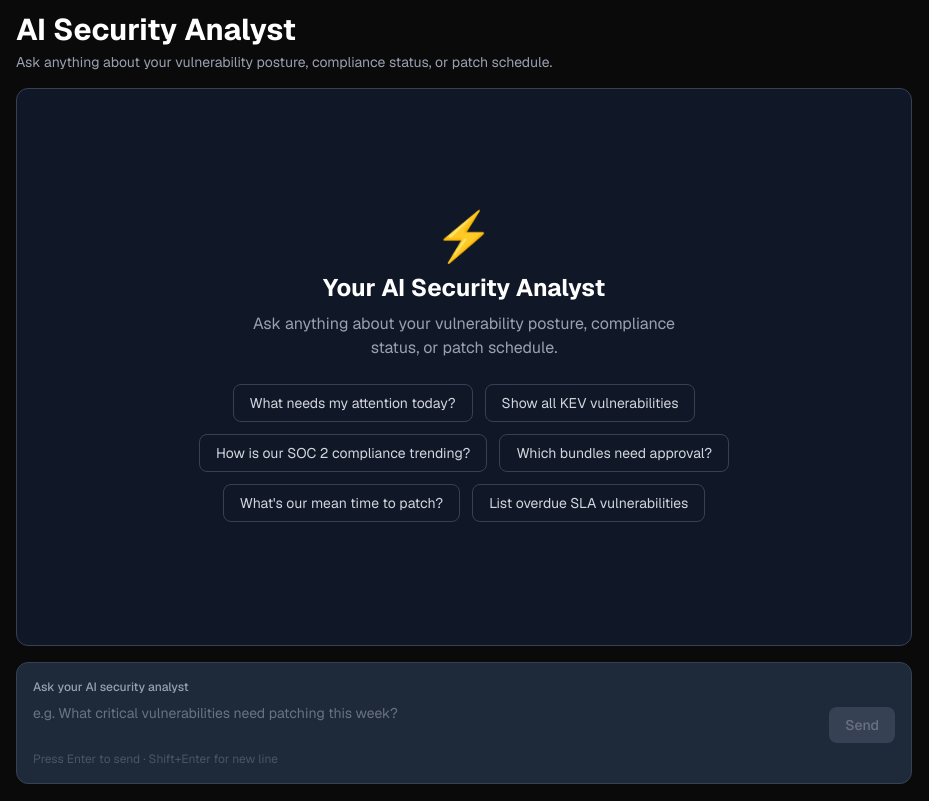
Test: AgentPage — message layout › user messages align to the right (justify-end)
// Send a message via the chip
Click the button "Which bundles need approval?" at (614, 453), box [499,434,729,472]
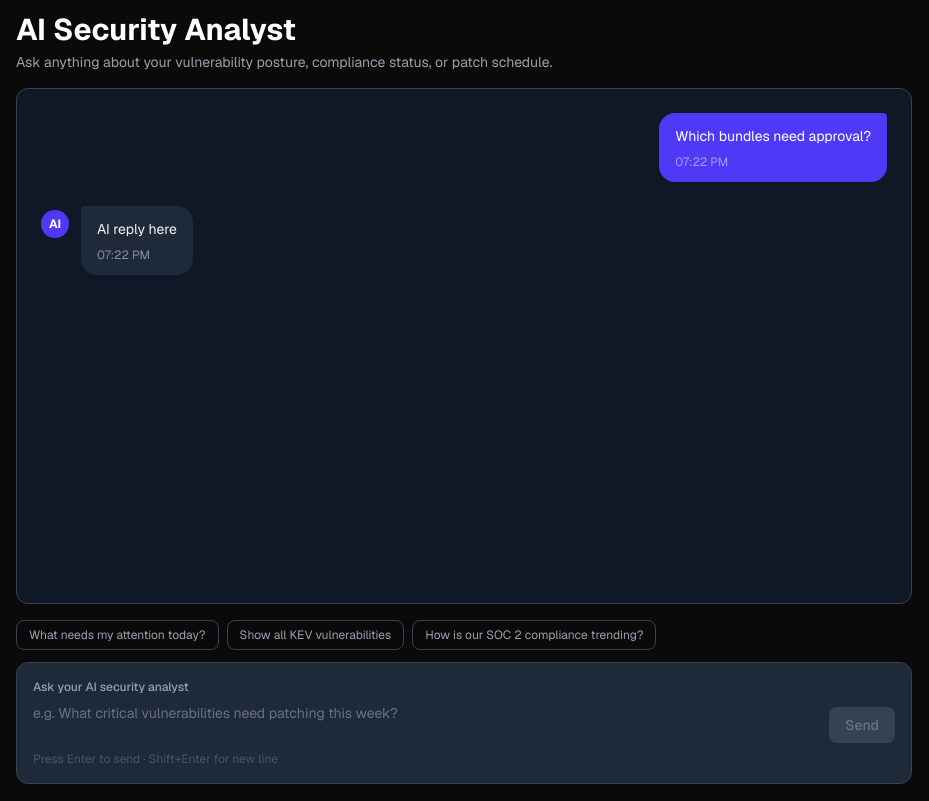
Result: the text "Which bundles need approval?" is shown at [675,127,871,145]
